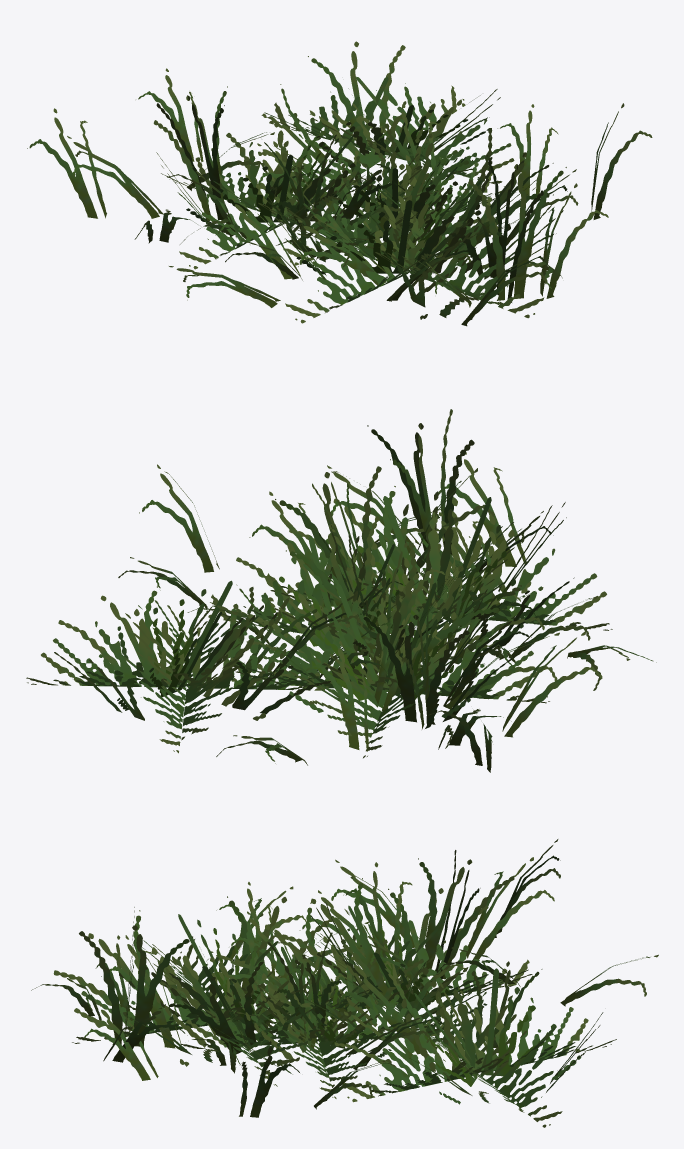
File: Grass2.fbx
3 renders of one model, top to bottom at view 1: azimuth 30°, elevation 25°; view 2: azimuth 150°, elevation 25°; view 3: azimuth 270°, elevation 25°, orthographic. The views are drawn at different scales.
Parts seen in each view (by area): view 1: Grass2_LOD0; view 2: Grass2_LOD0; view 3: Grass2_LOD0.
Boxes of the visible parts, x1,y1,x2,y2 form: Grass2_LOD0: (27, 41, 652, 326); Grass2_LOD0: (26, 409, 656, 772); Grass2_LOD0: (31, 839, 658, 1127).
Bounding box in the file's own units: 0.9058 × 1.06 × 0.3282.
